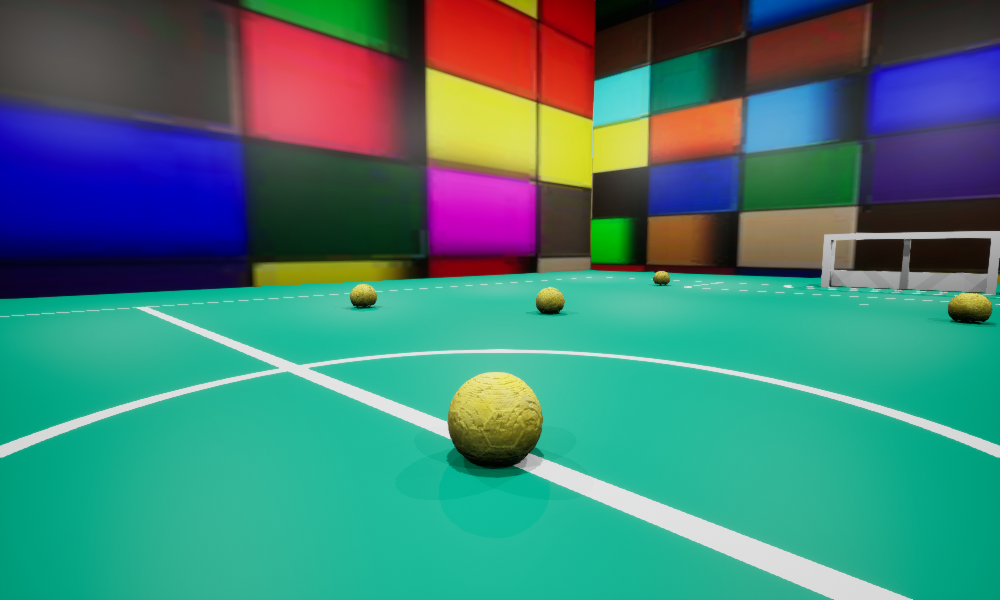b: (448, 372, 542, 466), (948, 293, 992, 322), (536, 287, 564, 313), (350, 284, 376, 307), (653, 271, 669, 284)
g: (821, 231, 999, 294)
